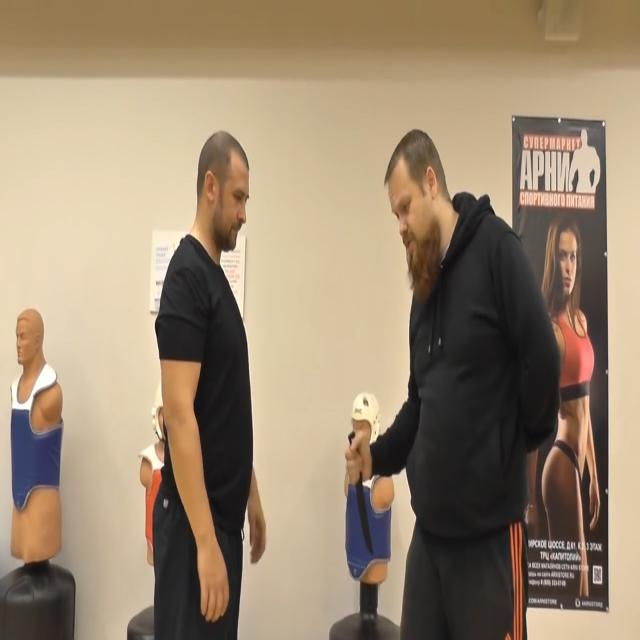knife: (356, 481, 378, 565)
